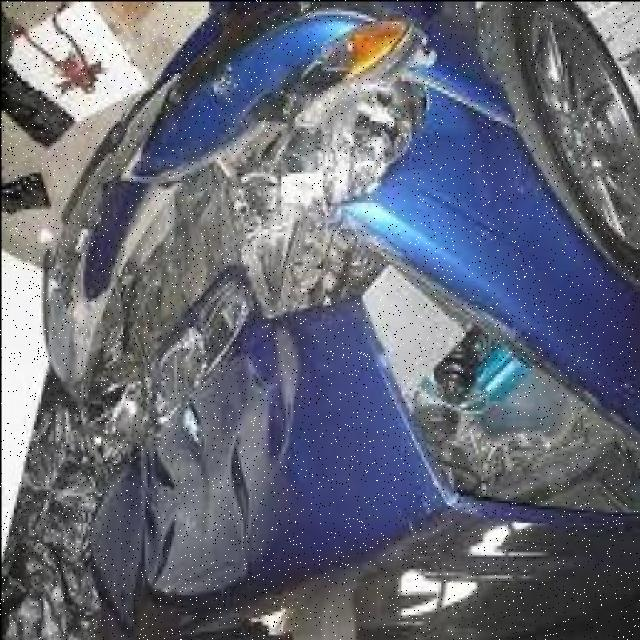damage: (37, 19, 462, 621)
